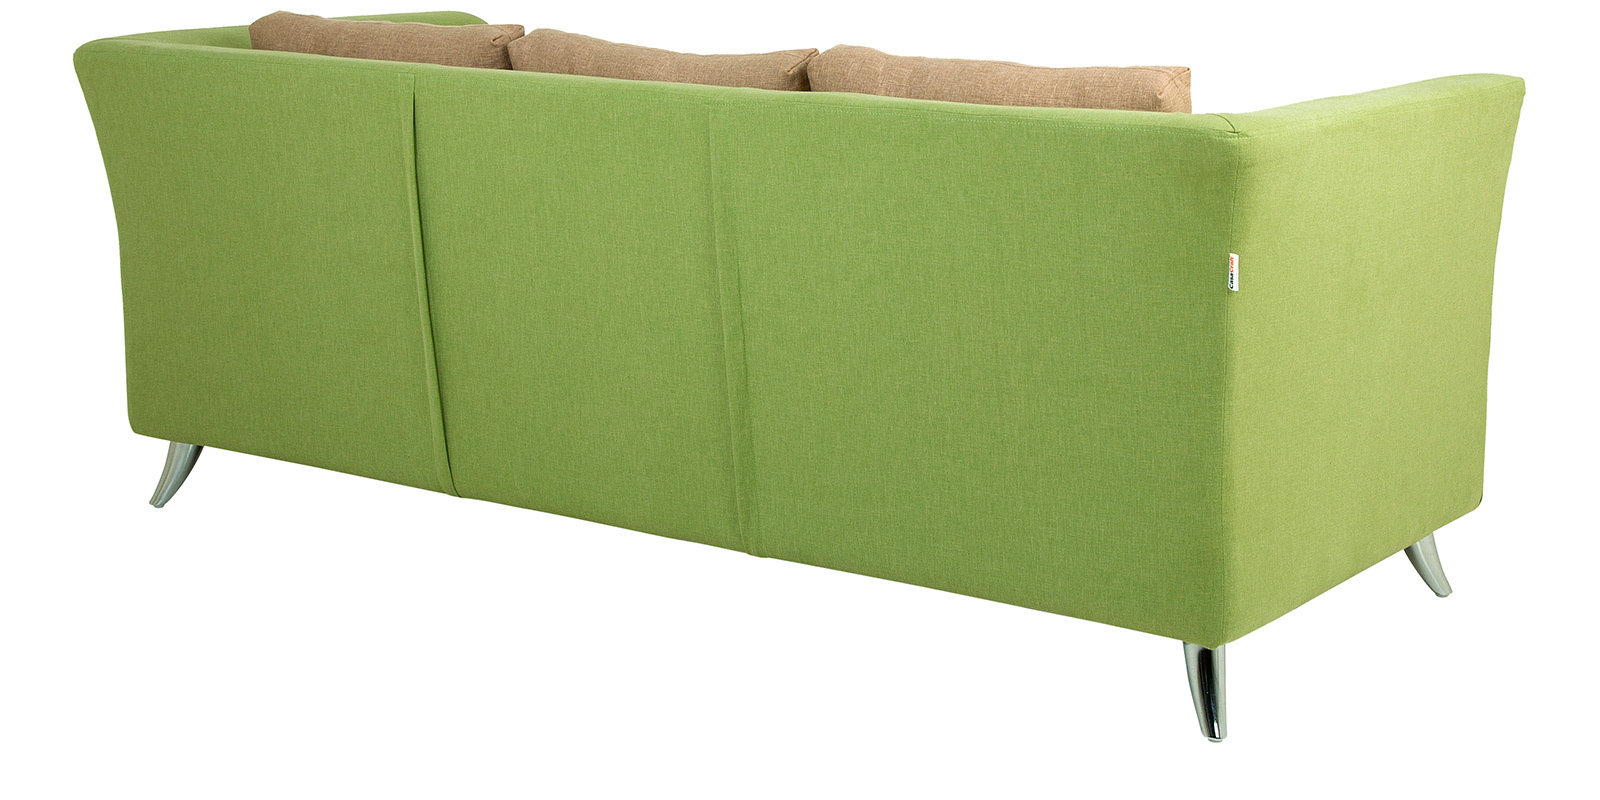Iowa Three Seater Sofa in Pear Green Colour by Furnitech: (56, 3, 1516, 748)
